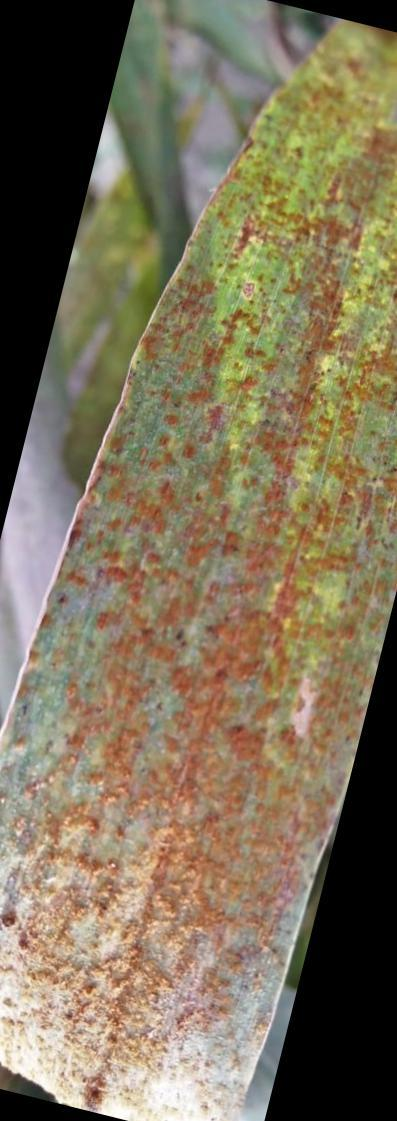Wheat: (4, 749, 241, 1062), (102, 515, 360, 727), (174, 294, 389, 504), (257, 127, 397, 263)
